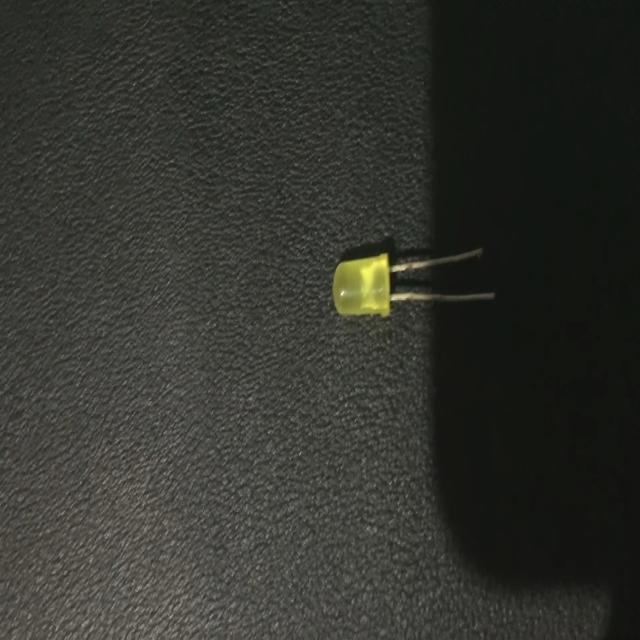LED: (332, 242, 498, 323)
